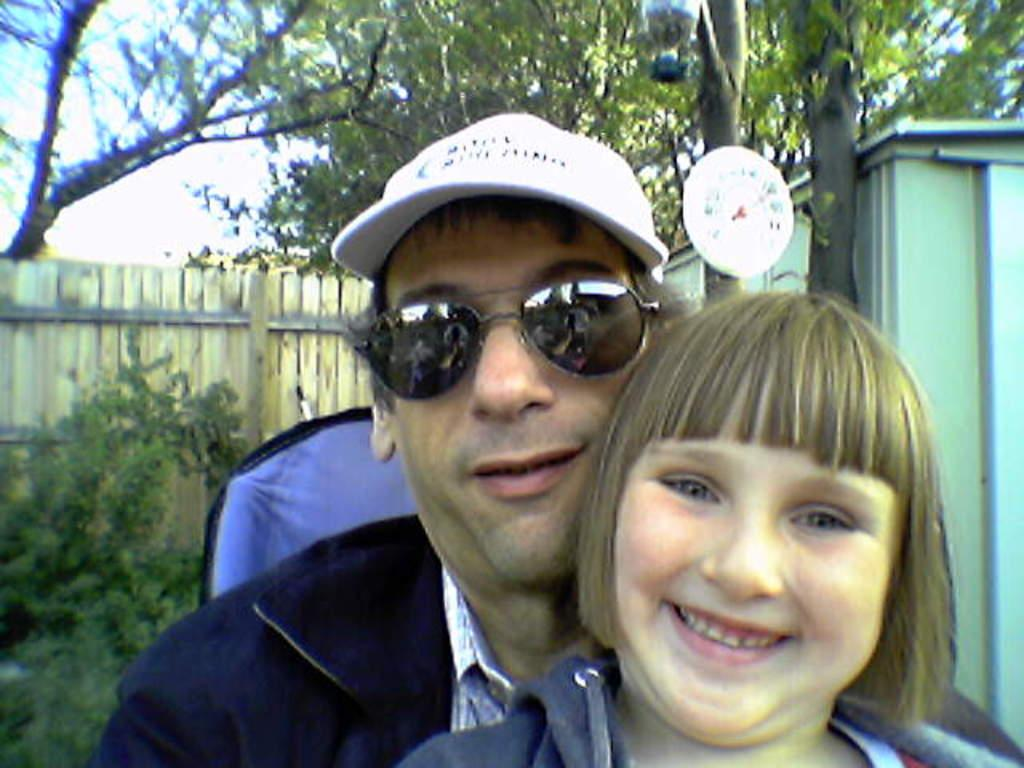Hat: (324, 106, 666, 280)
